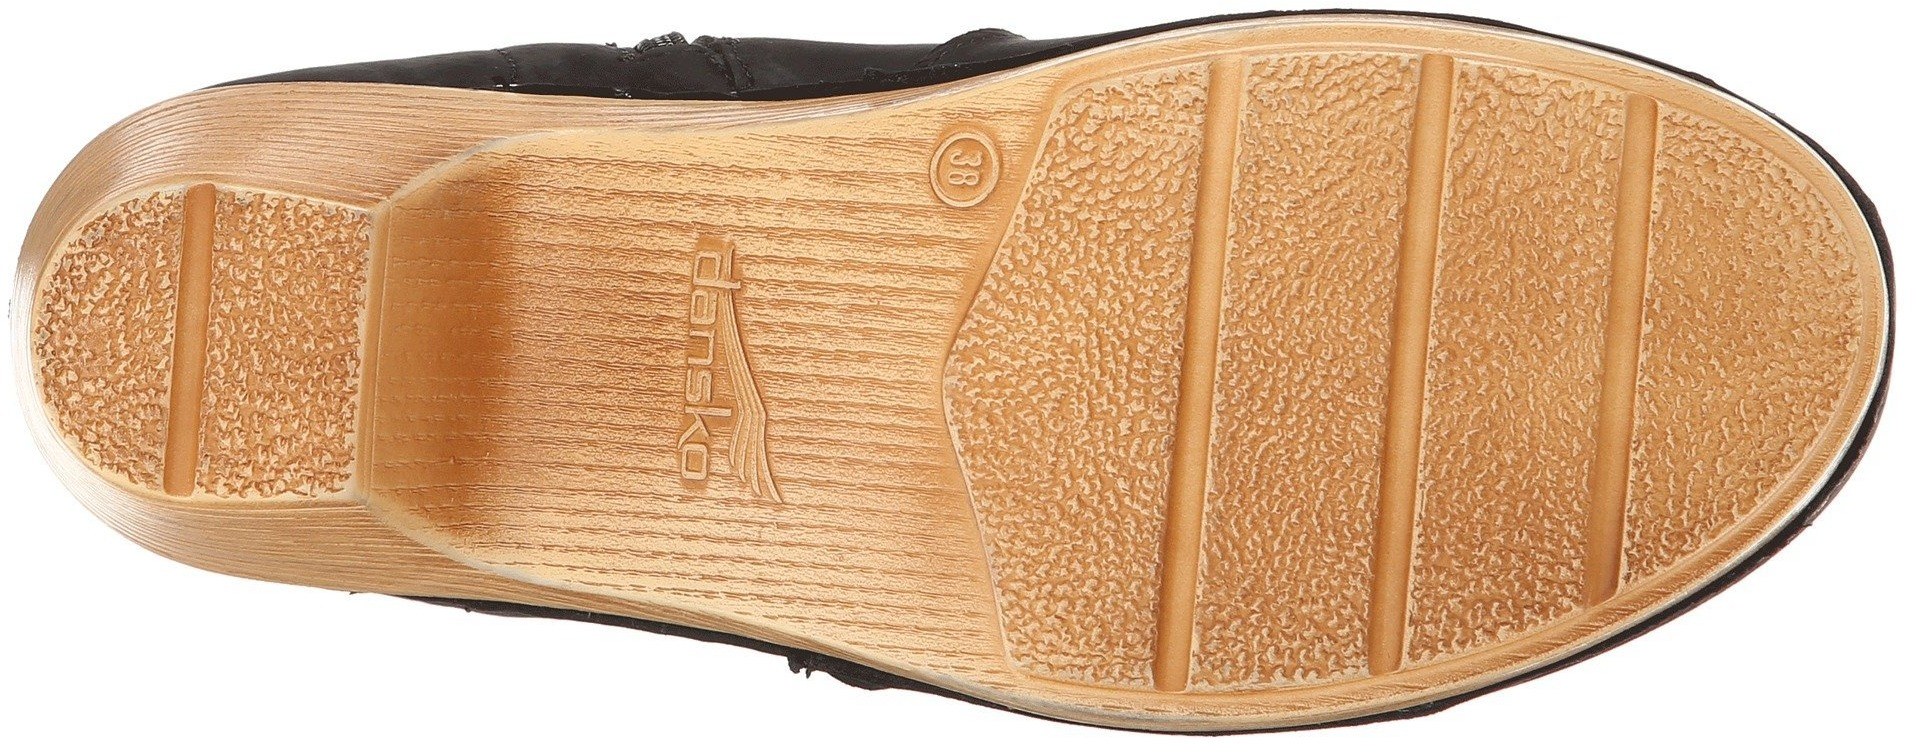exclude: (6, 26, 1019, 712)
other: (1660, 211, 1863, 401), (997, 243, 1183, 435), (1447, 107, 1618, 288), (1204, 478, 1377, 633), (1434, 394, 1594, 558), (1247, 109, 1405, 276), (1219, 318, 1383, 469), (219, 245, 365, 387), (52, 284, 173, 408)
